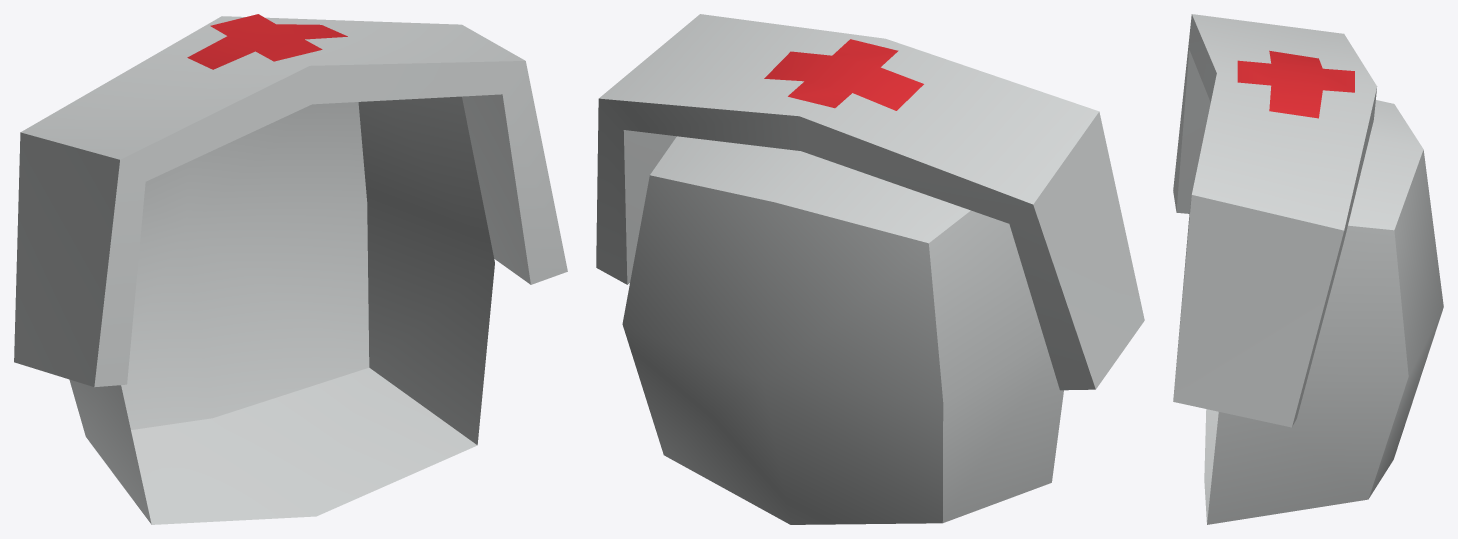
Rendered from Nurse Hat 01.FBX.
3 views of the same model, side by side, from view 1: azimuth 30°, elevation 25°; view 2: azimuth 150°, elevation 25°; view 3: azimuth 270°, elevation 25° (orthographic). The views are drawn at different scales.
Visible parts, largest first — view 1: Nurse Hat 01; view 2: Nurse Hat 01; view 3: Nurse Hat 01.
Boxes of the visible parts, <box> form: Nurse Hat 01: <box>14,14,567,524</box>; Nurse Hat 01: <box>596,14,1144,524</box>; Nurse Hat 01: <box>1173,14,1443,524</box>.
Bounding box in the file's own units: 56.9 × 47.93 × 28.77.
1 material, 1 textured.
